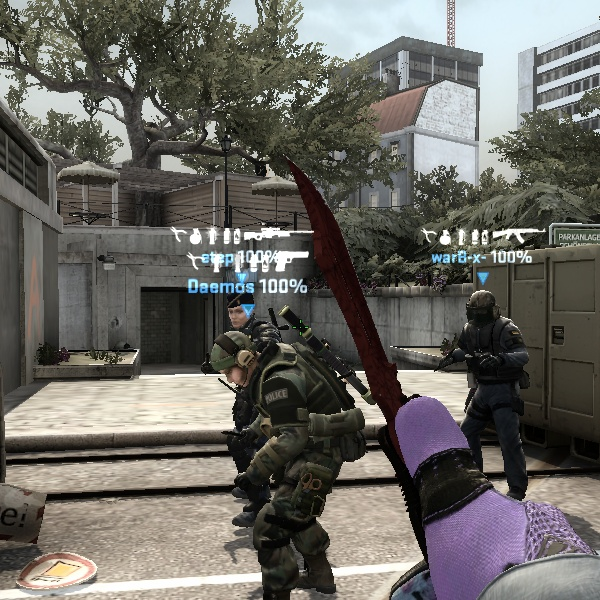ct_body: (199, 318, 375, 600), (423, 284, 552, 509)
ct_head: (201, 324, 270, 393), (458, 285, 517, 343)
